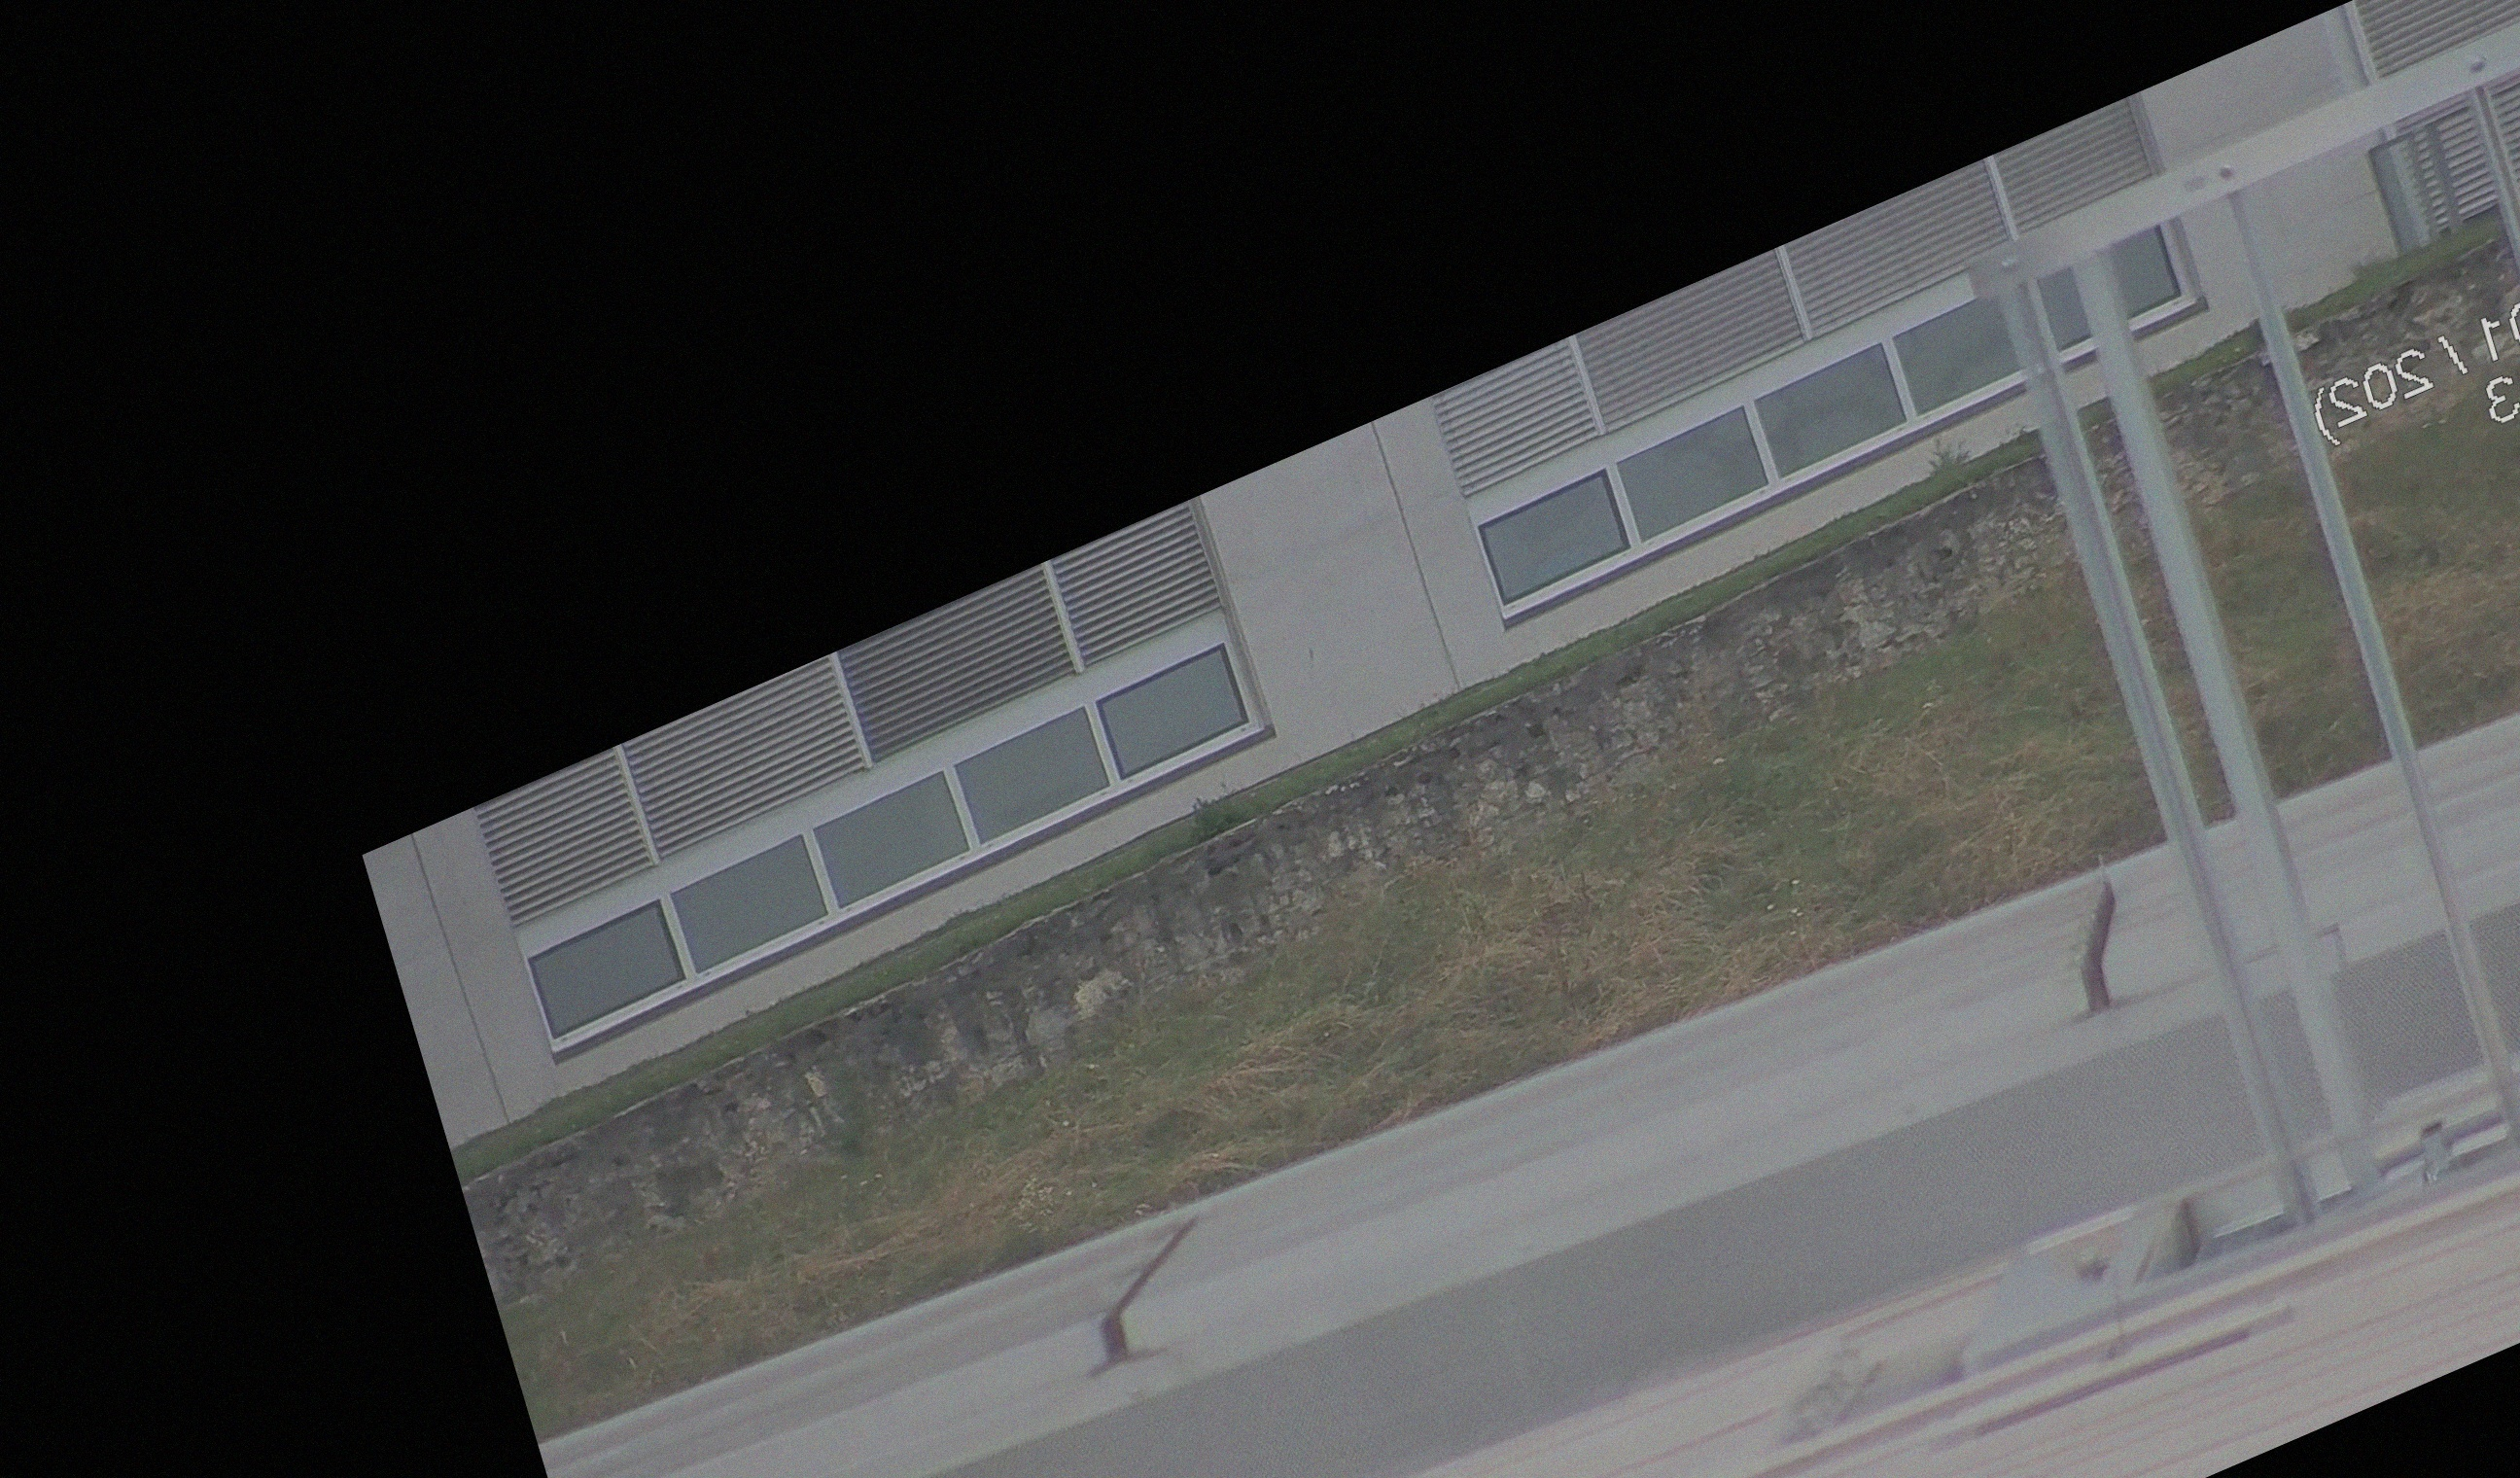Other: (2035, 848, 2170, 1036)
